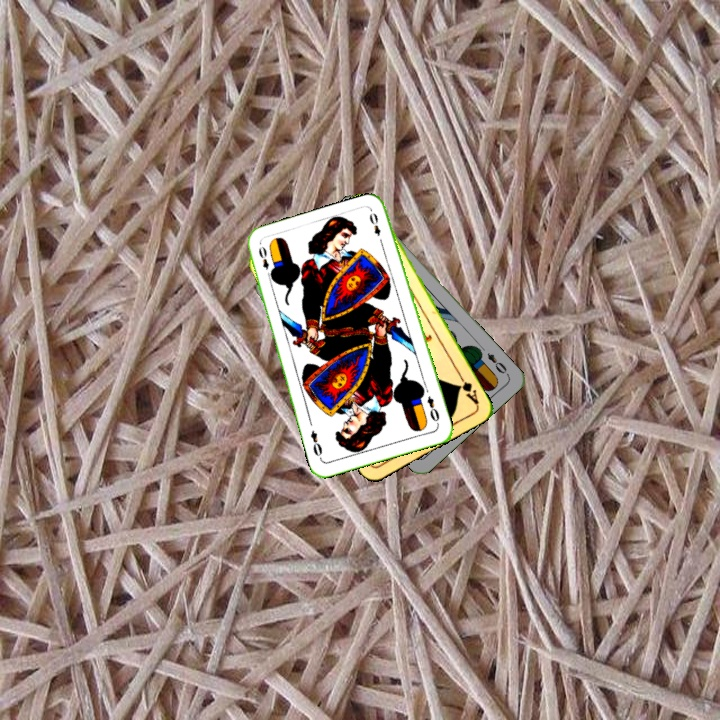EO: (254, 242, 275, 281), (483, 349, 511, 378), (423, 392, 442, 428)
GA: (454, 370, 482, 407)
